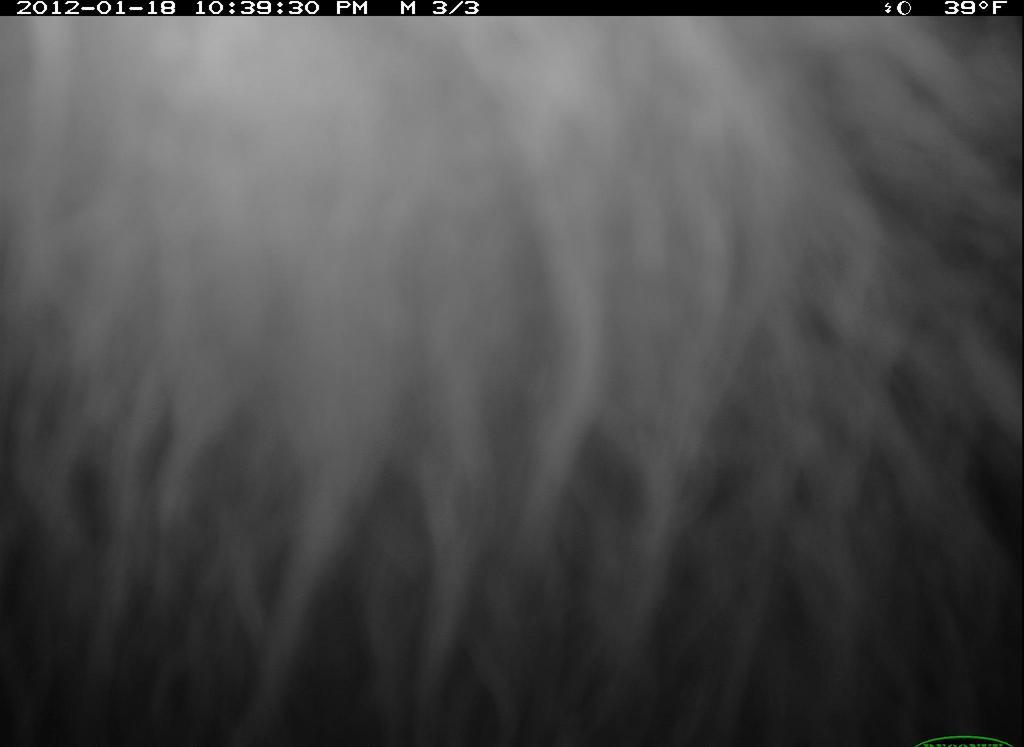raccoon: (12, 20, 1010, 730)
